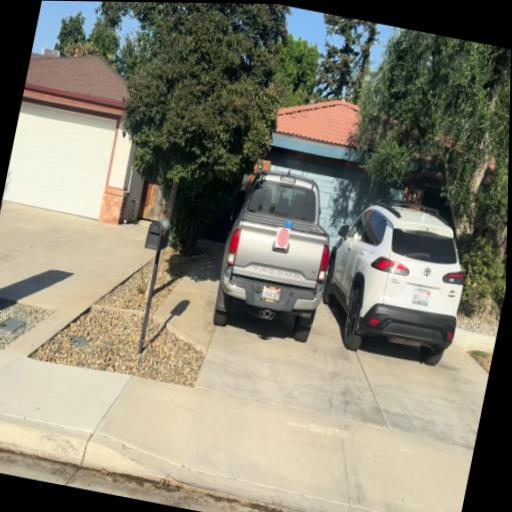bullseye: (275, 227, 290, 249)
